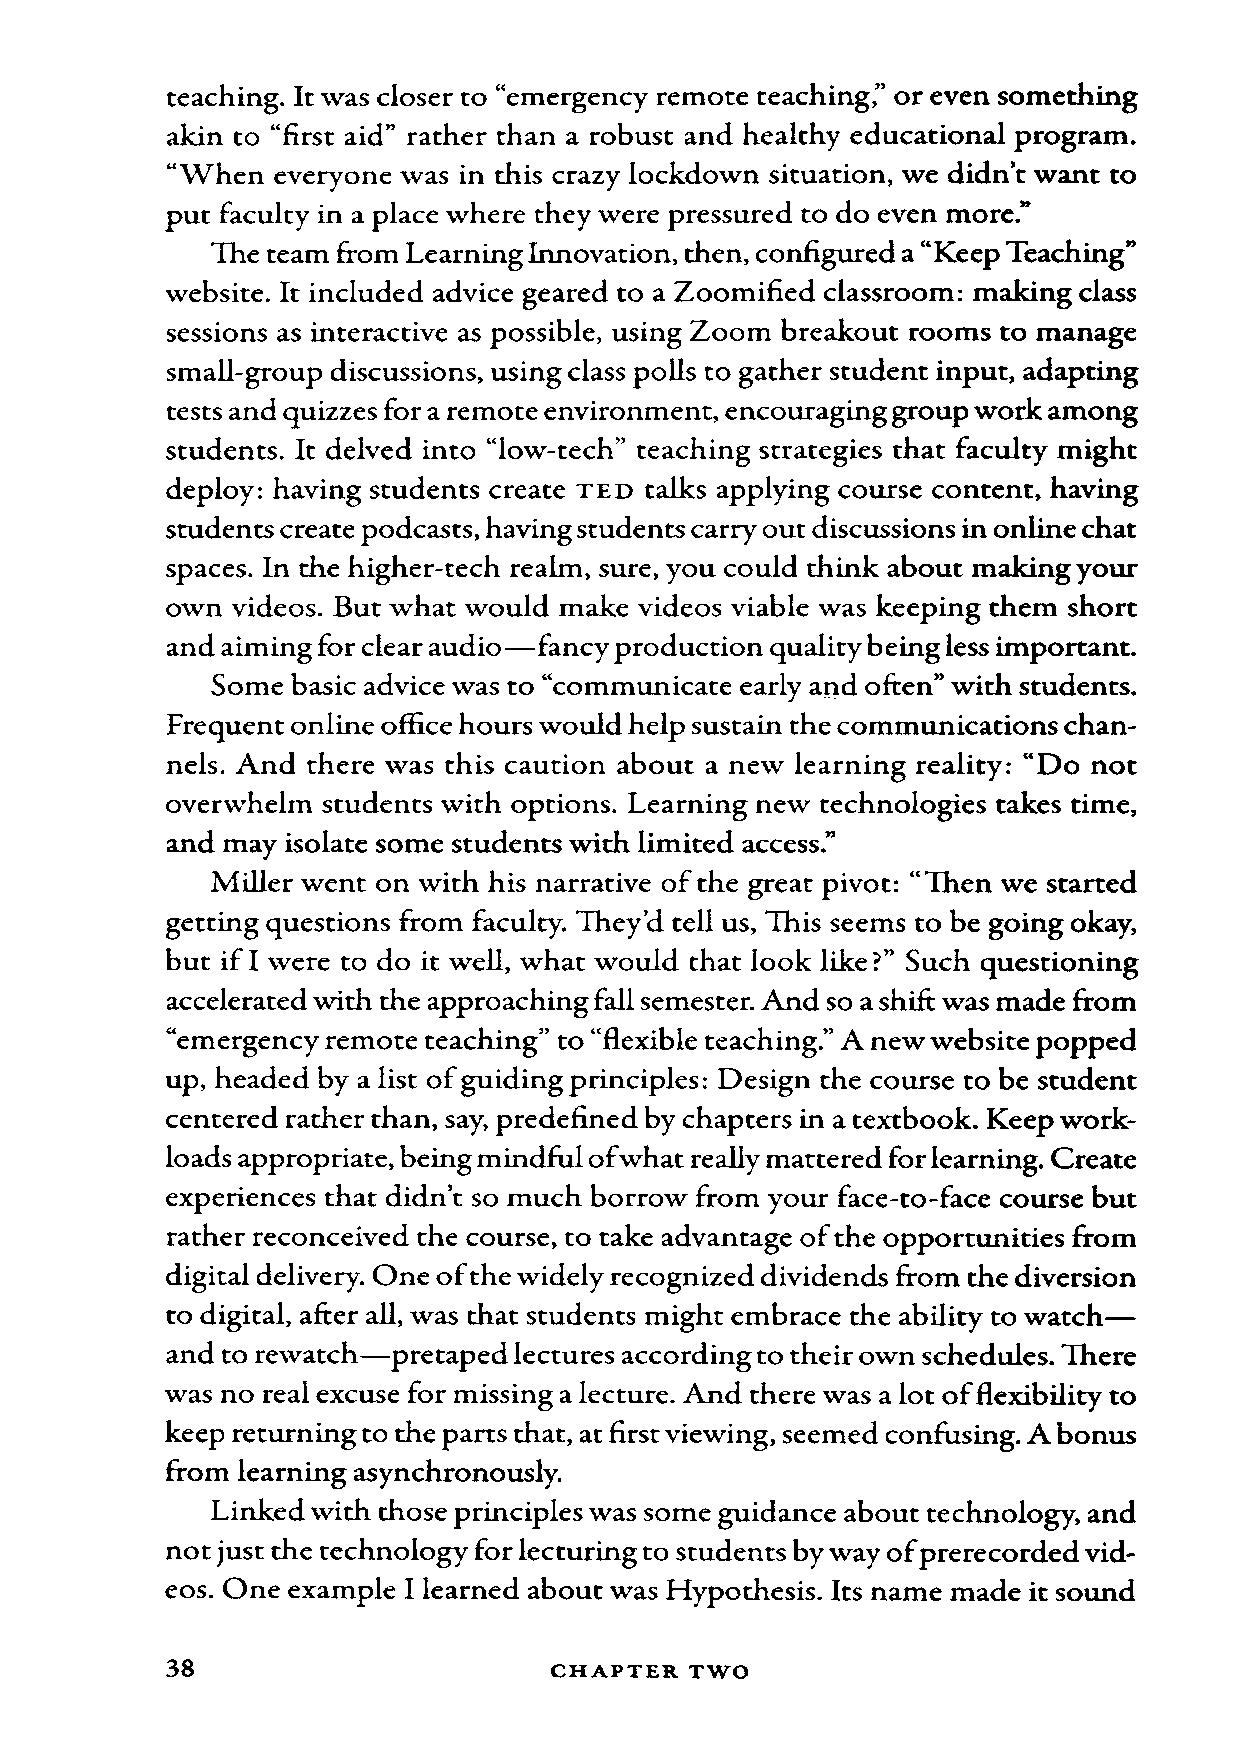content: (160, 81, 1143, 1610)
content_chapter: (545, 1657, 752, 1682)
content_pagenumber: (166, 1651, 196, 1686)
